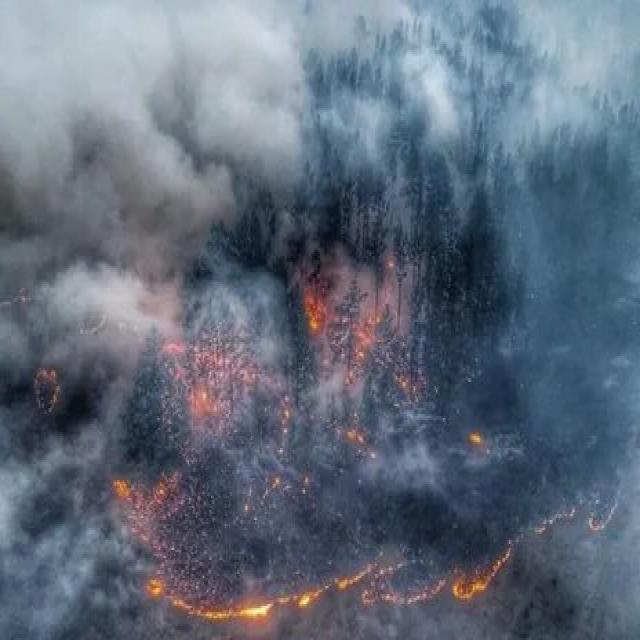Fire: (157, 525, 481, 640), (100, 464, 182, 618)
